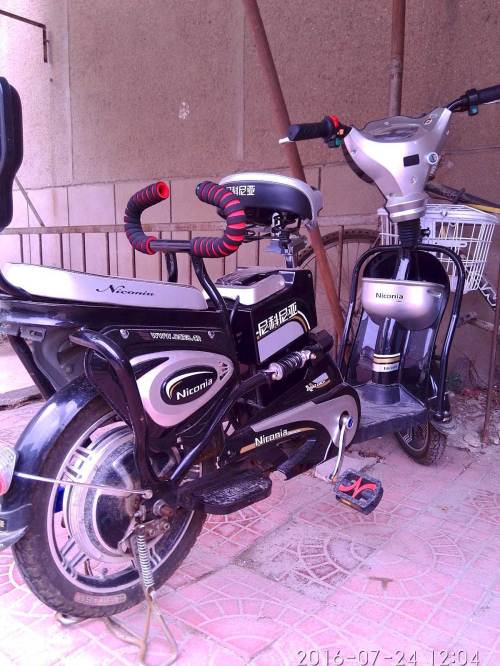电动车: (6, 77, 499, 666)
